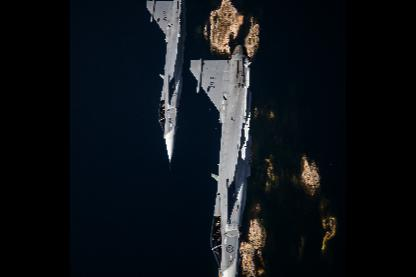JAS39: (189, 44, 252, 275), (145, 0, 186, 170)
